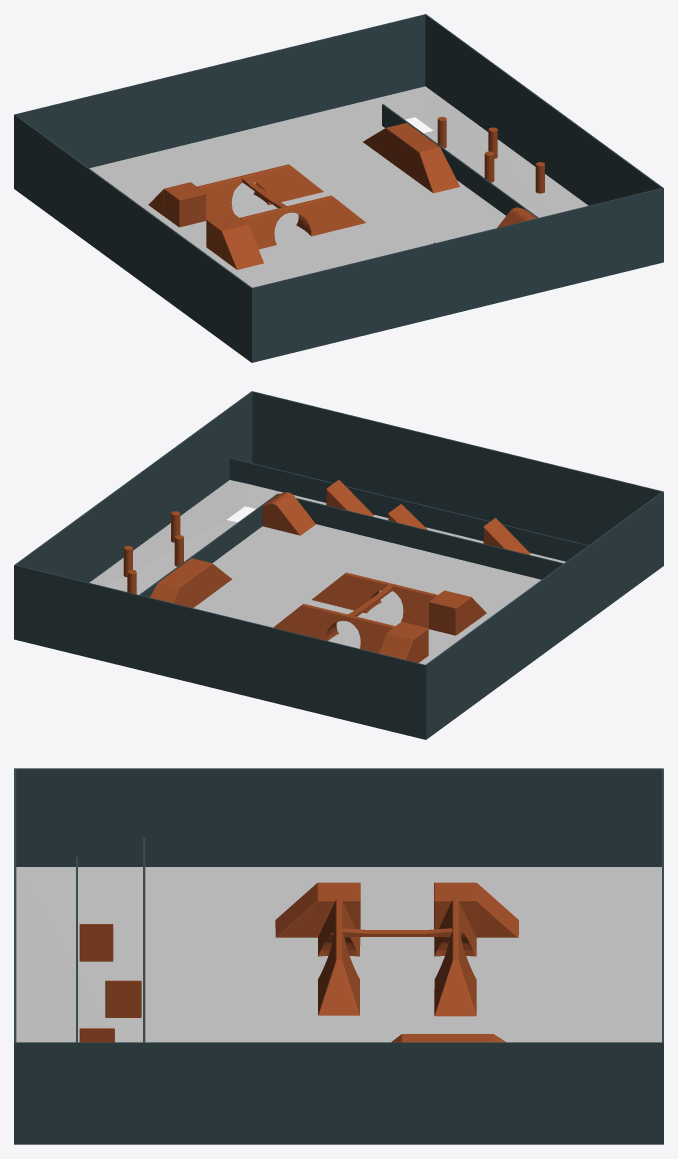
3 views of the same model, one above another, from view 1: azimuth 30°, elevation 25°; view 2: azimuth 150°, elevation 25°; view 3: azimuth 270°, elevation 25° (orthographic). The views are drawn at different scales.
Visible parts, largest first — view 1: Plane, Ramp.005, Ramp.006, Ramp.008, Cube.001, Ramp, Cube; view 2: Plane, Ramp.006, Ramp.008, Ramp.005, Cube, Ramp.002, Cube.001, Ramp.004, Ramp.001, Ramp.007; view 3: Plane, Ramp.008, Ramp.006, Ramp, Ramp.007, Cube, Cube.001, Ramp.003, Ramp.001, Ramp.005, Cube.002.
Part boxes in pixels (left/top/right/bottom): Plane: left=14, top=14, right=663, bottom=362; Ramp.005: left=363, top=123, right=460, bottom=193; Ramp.006: left=240, top=195, right=365, bottom=249; Ramp.008: left=197, top=164, right=323, bottom=219; Cube.001: left=163, top=182, right=206, bottom=227; Ramp: left=222, top=225, right=263, bottom=269; Cube: left=206, top=213, right=248, bottom=258; Plane: left=14, top=391, right=663, bottom=739; Ramp.006: left=312, top=572, right=437, bottom=628; Ramp.008: left=273, top=604, right=395, bottom=652; Ramp.005: left=150, top=558, right=231, bottom=607; Cube: left=429, top=590, right=471, bottom=635; Ramp.002: left=262, top=492, right=315, bottom=535; Cube.001: left=386, top=621, right=428, bottom=662; Ramp.004: left=326, top=480, right=373, bottom=516; Ramp.001: left=483, top=518, right=530, bottom=554; Ramp.007: left=378, top=633, right=413, bottom=661; Plane: left=14, top=768, right=663, bottom=1144; Ramp.008: left=434, top=899, right=476, bottom=1016; Ramp.006: left=318, top=899, right=360, bottom=1015; Ramp: left=275, top=883, right=317, bottom=937; Ramp.007: left=477, top=883, right=518, bottom=937; Cube: left=317, top=882, right=360, bottom=937; Cube.001: left=434, top=882, right=476, bottom=937; Ramp.003: left=105, top=980, right=141, bottom=1017; Ramp.001: left=79, top=924, right=113, bottom=961; Ramp.005: left=391, top=1034, right=505, bottom=1042; Cube.002: left=342, top=928, right=452, bottom=936.
Bounding box in the file's own units: 30.2 × 5.2 × 30.2.
